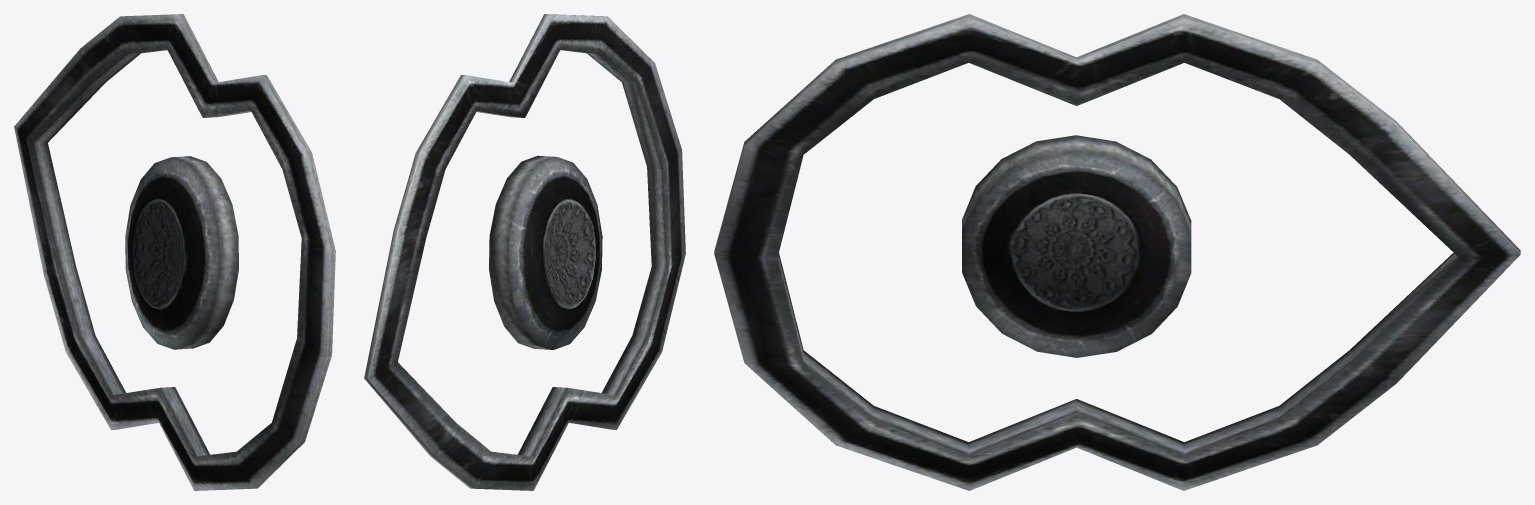
The model's file is target_pn30_map248_20260708-191103.obj.
3 renders of one model, left to right at view 1: azimuth 30°, elevation 25°; view 2: azimuth 150°, elevation 25°; view 3: azimuth 270°, elevation 25°, orthographic. The views are drawn at different scales.
Parts seen in each view (by area): view 1: object_0; view 2: object_0; view 3: object_0.
Boxes of the visible parts, <box> form: object_0: <box>14,14,335,490</box>; object_0: <box>364,14,685,490</box>; object_0: <box>714,14,1520,490</box>.
Size of the model in its own units: 5.59 by 28.39 by 40.2.
1 material, 1 textured.
